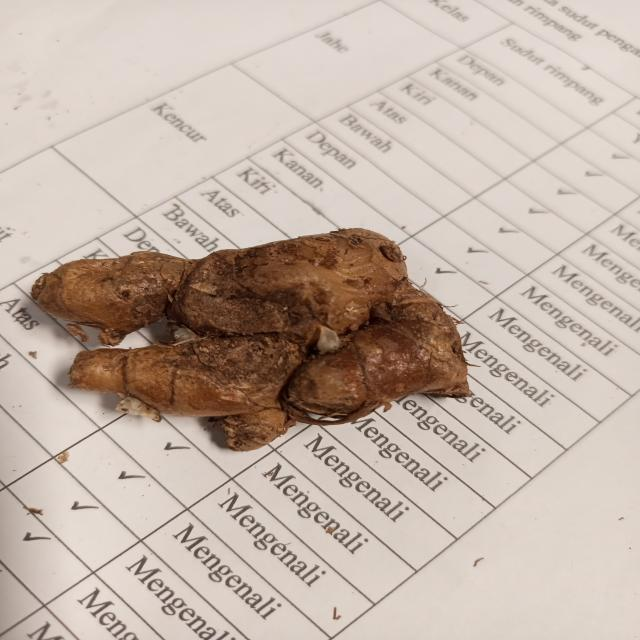ginger: (41, 227, 466, 423)
